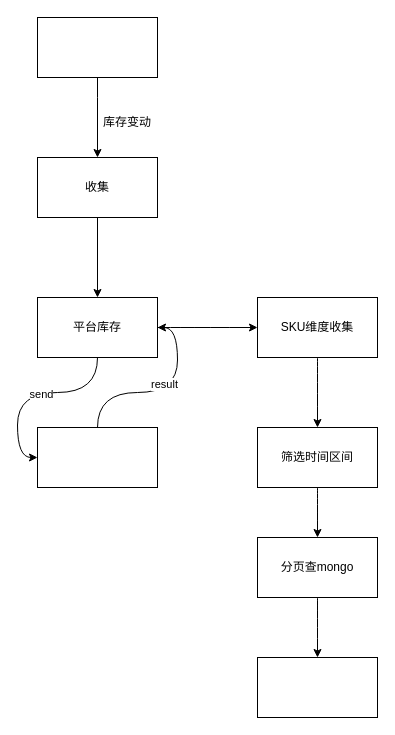
The diagram is 395 pixels wide and 735 high, and some of its shapes have lost their labels. Each missing label, with the centre of its shape:
"三方" goes at [97,457].
"仓储" goes at [97,47].
"判断失败率" goes at [317,687].
